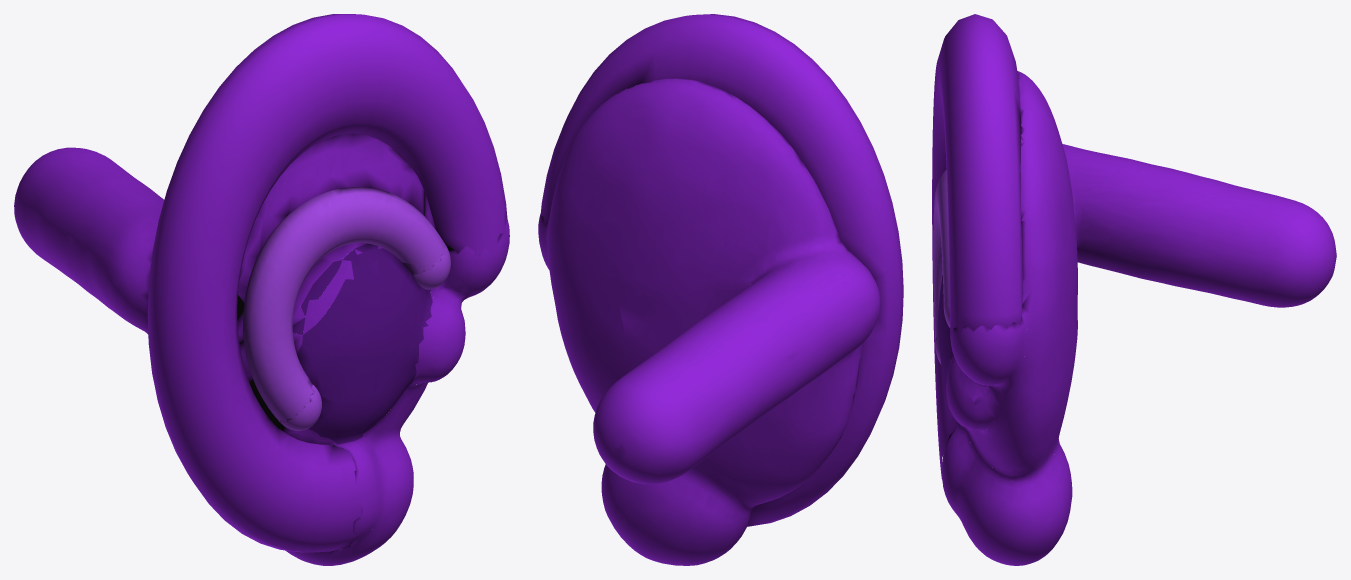
Rendered from vi-hors.glb.
3 views of the same model, side by side, from view 1: azimuth 30°, elevation 25°; view 2: azimuth 150°, elevation 25°; view 3: azimuth 270°, elevation 25° (orthographic). The views are drawn at different scales.
Parts seen in each view (by area): view 1: orelha__r1, orelha__r0, orelha__r2, orelha__r4, orelha__r3; view 2: orelha__r0, orelha__r1; view 3: orelha__r0, orelha__r1, orelha__r2.
Boxes of the visible parts, box(x1,y1,x2,y2) form: orelha__r1: box(147, 14, 507, 552); orelha__r0: box(14, 133, 509, 565); orelha__r2: box(243, 187, 447, 424); orelha__r4: box(279, 385, 321, 430); orelha__r3: box(413, 243, 450, 289); orelha__r0: box(538, 78, 880, 565); orelha__r1: box(540, 14, 903, 526); orelha__r0: box(937, 71, 1336, 565); orelha__r1: box(932, 14, 1022, 480); orelha__r2: box(933, 169, 949, 340).
Size of the model in its own units: 0.5889 by 0.8585 by 0.6091.
